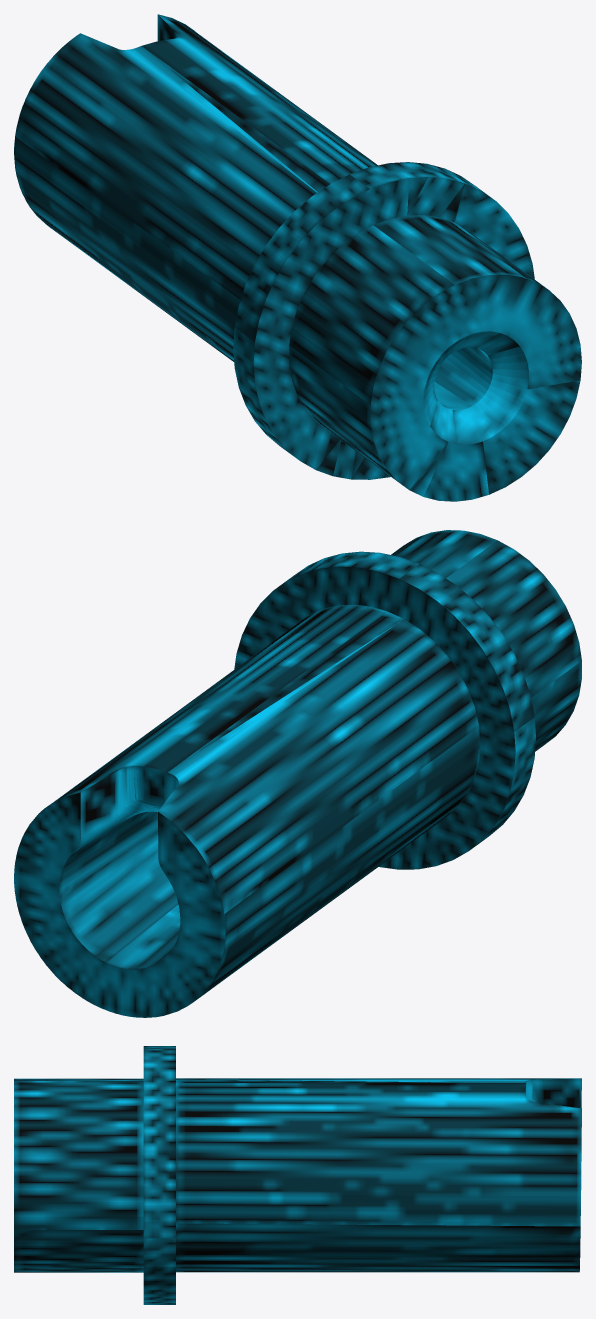
File: Mold1-Sprue Bush-M.glb
3 views of the same model, one above another, from view 1: azimuth 30°, elevation 25°; view 2: azimuth 150°, elevation 25°; view 3: azimuth 270°, elevation 25° (orthographic). The views are drawn at different scales.
Parts seen in each view (by area): view 1: buse d'injection + vis.001; view 2: buse d'injection + vis.001; view 3: buse d'injection + vis.001.
Part boxes in pixels (x1=…): buse d'injection + vis.001: x1=14, y1=14, x2=581, y2=501; buse d'injection + vis.001: x1=14, y1=530, x2=581, y2=1017; buse d'injection + vis.001: x1=14, y1=1046, x2=581, y2=1304.
Bounding box in the file's own units: 0.9409 × 0.9414 × 2.06.
Materials: 1 (1 with a texture image).
